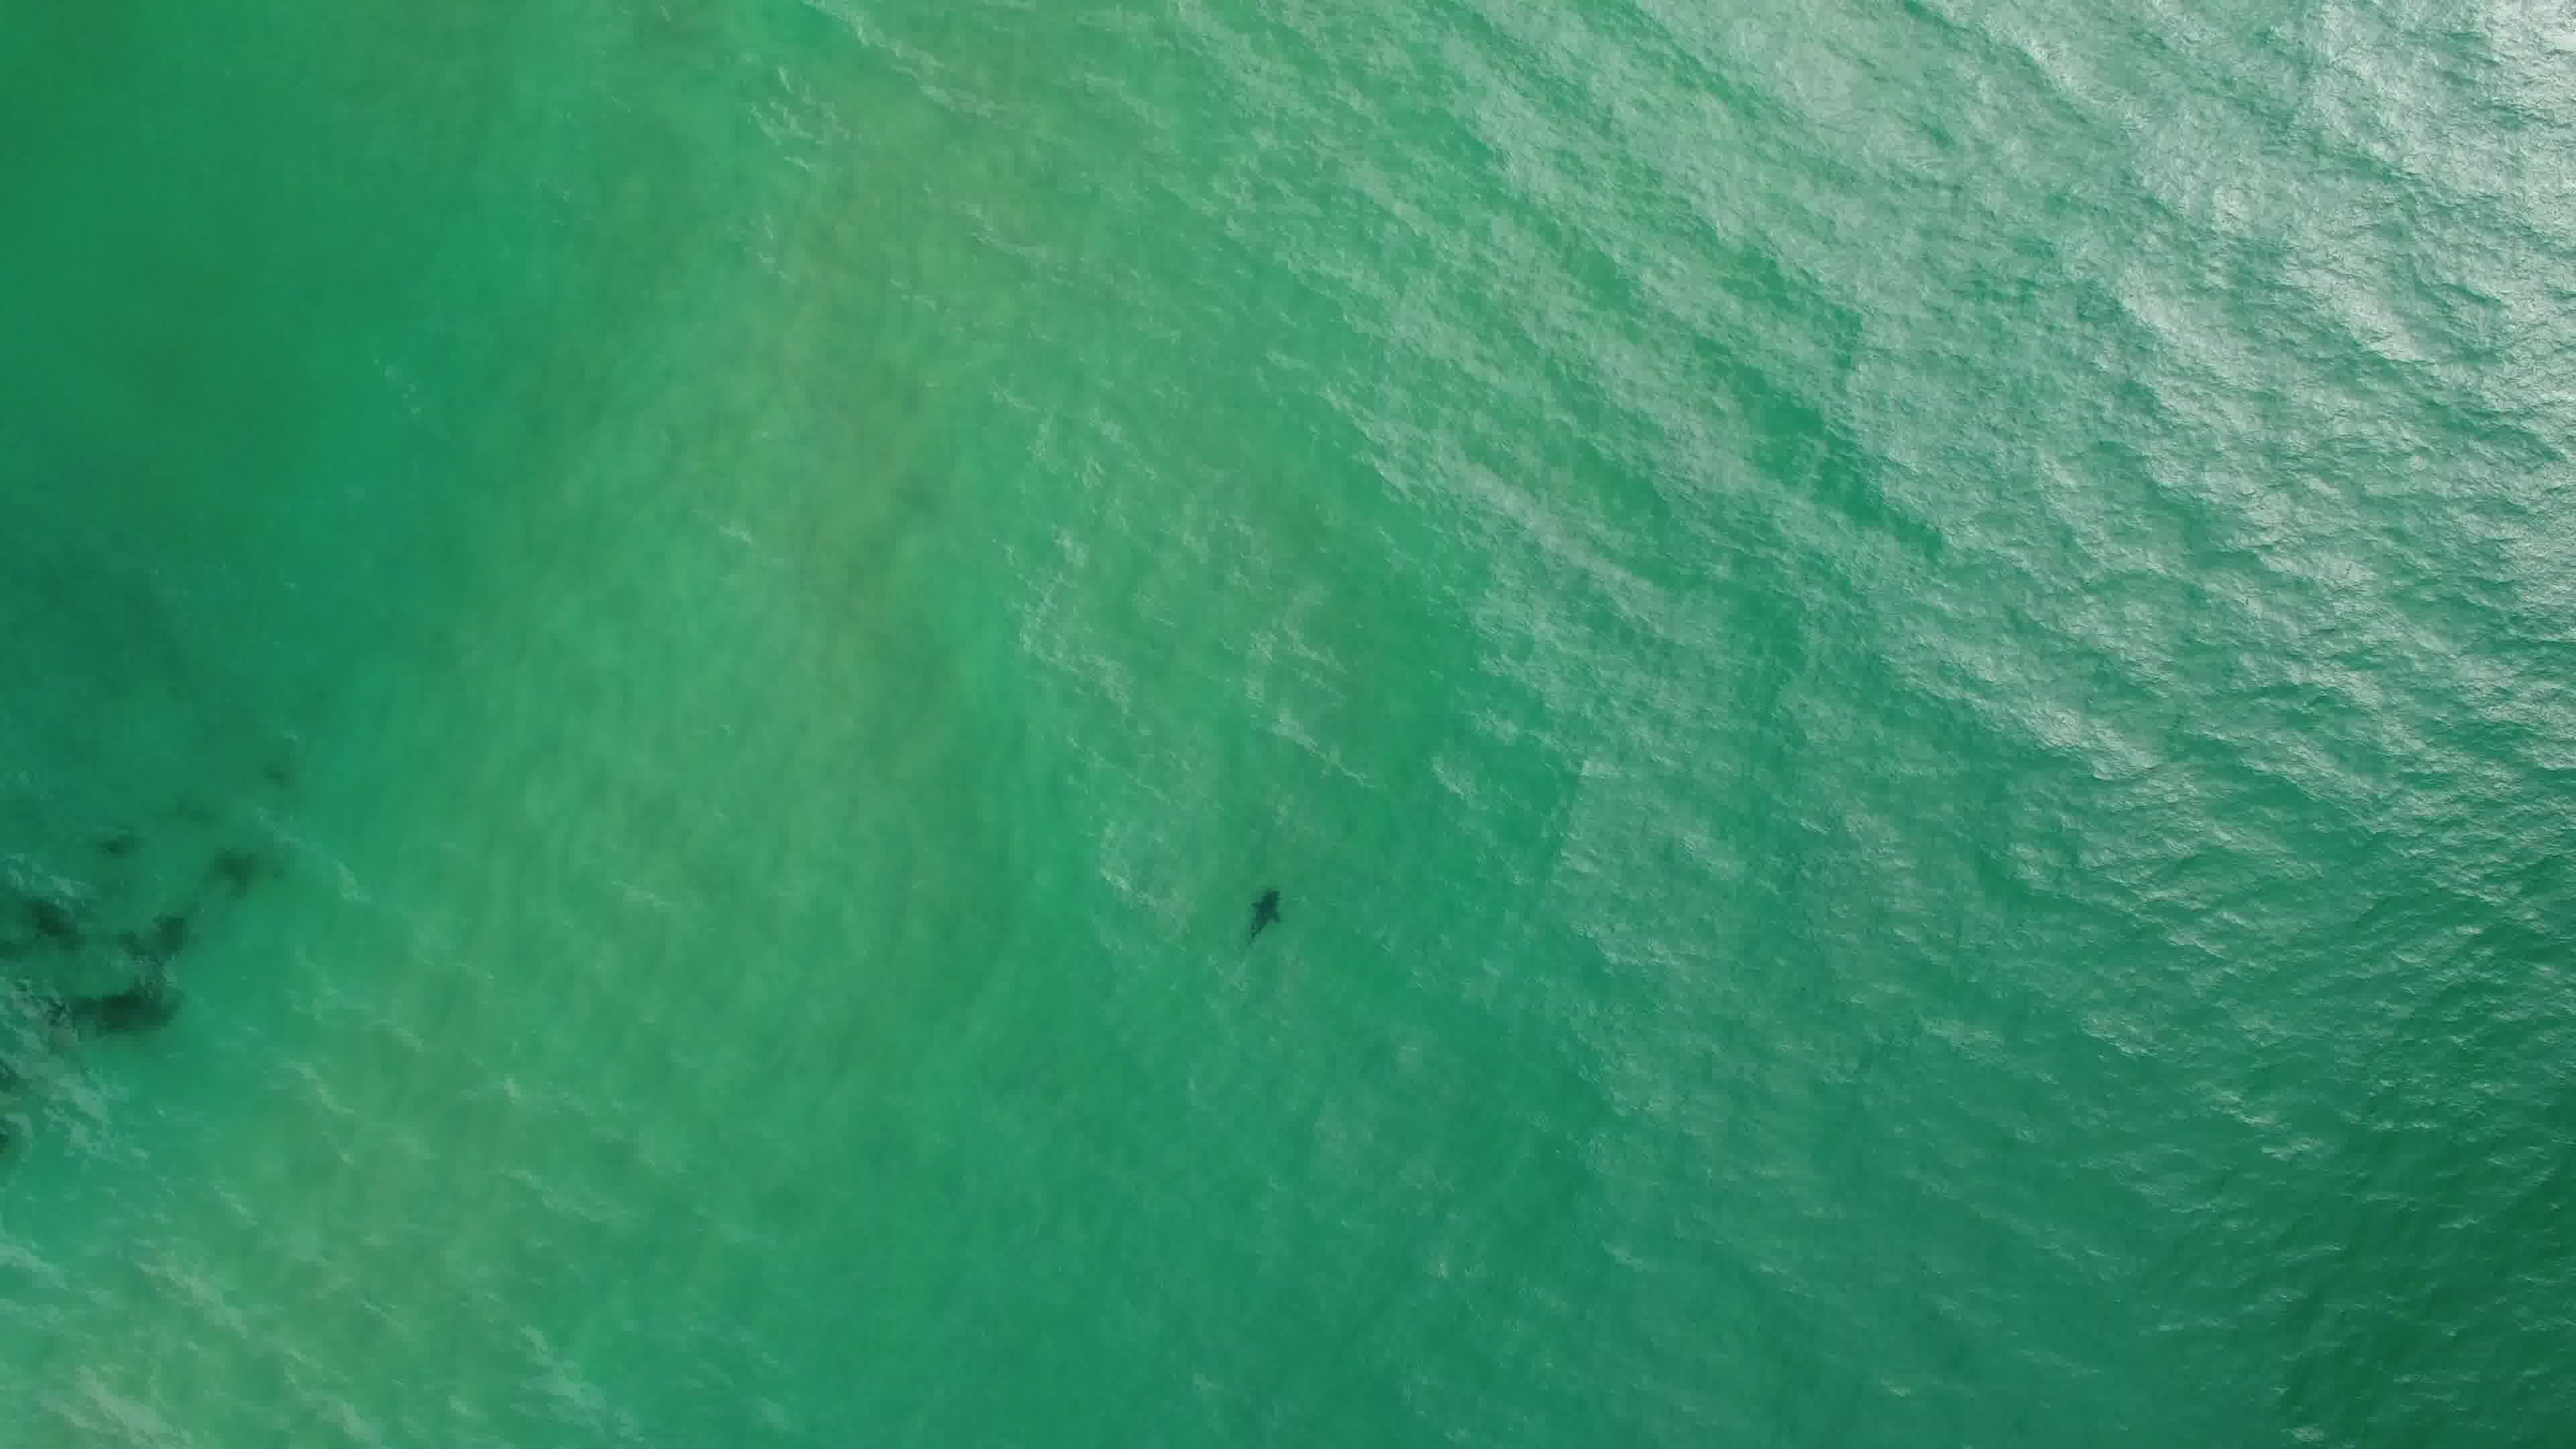shark: (1235, 883, 1293, 952)
